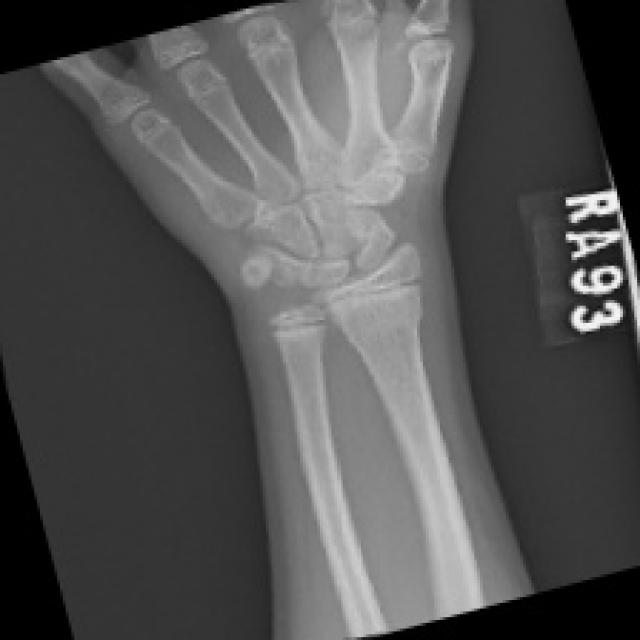fracture: (216, 212, 330, 328)
